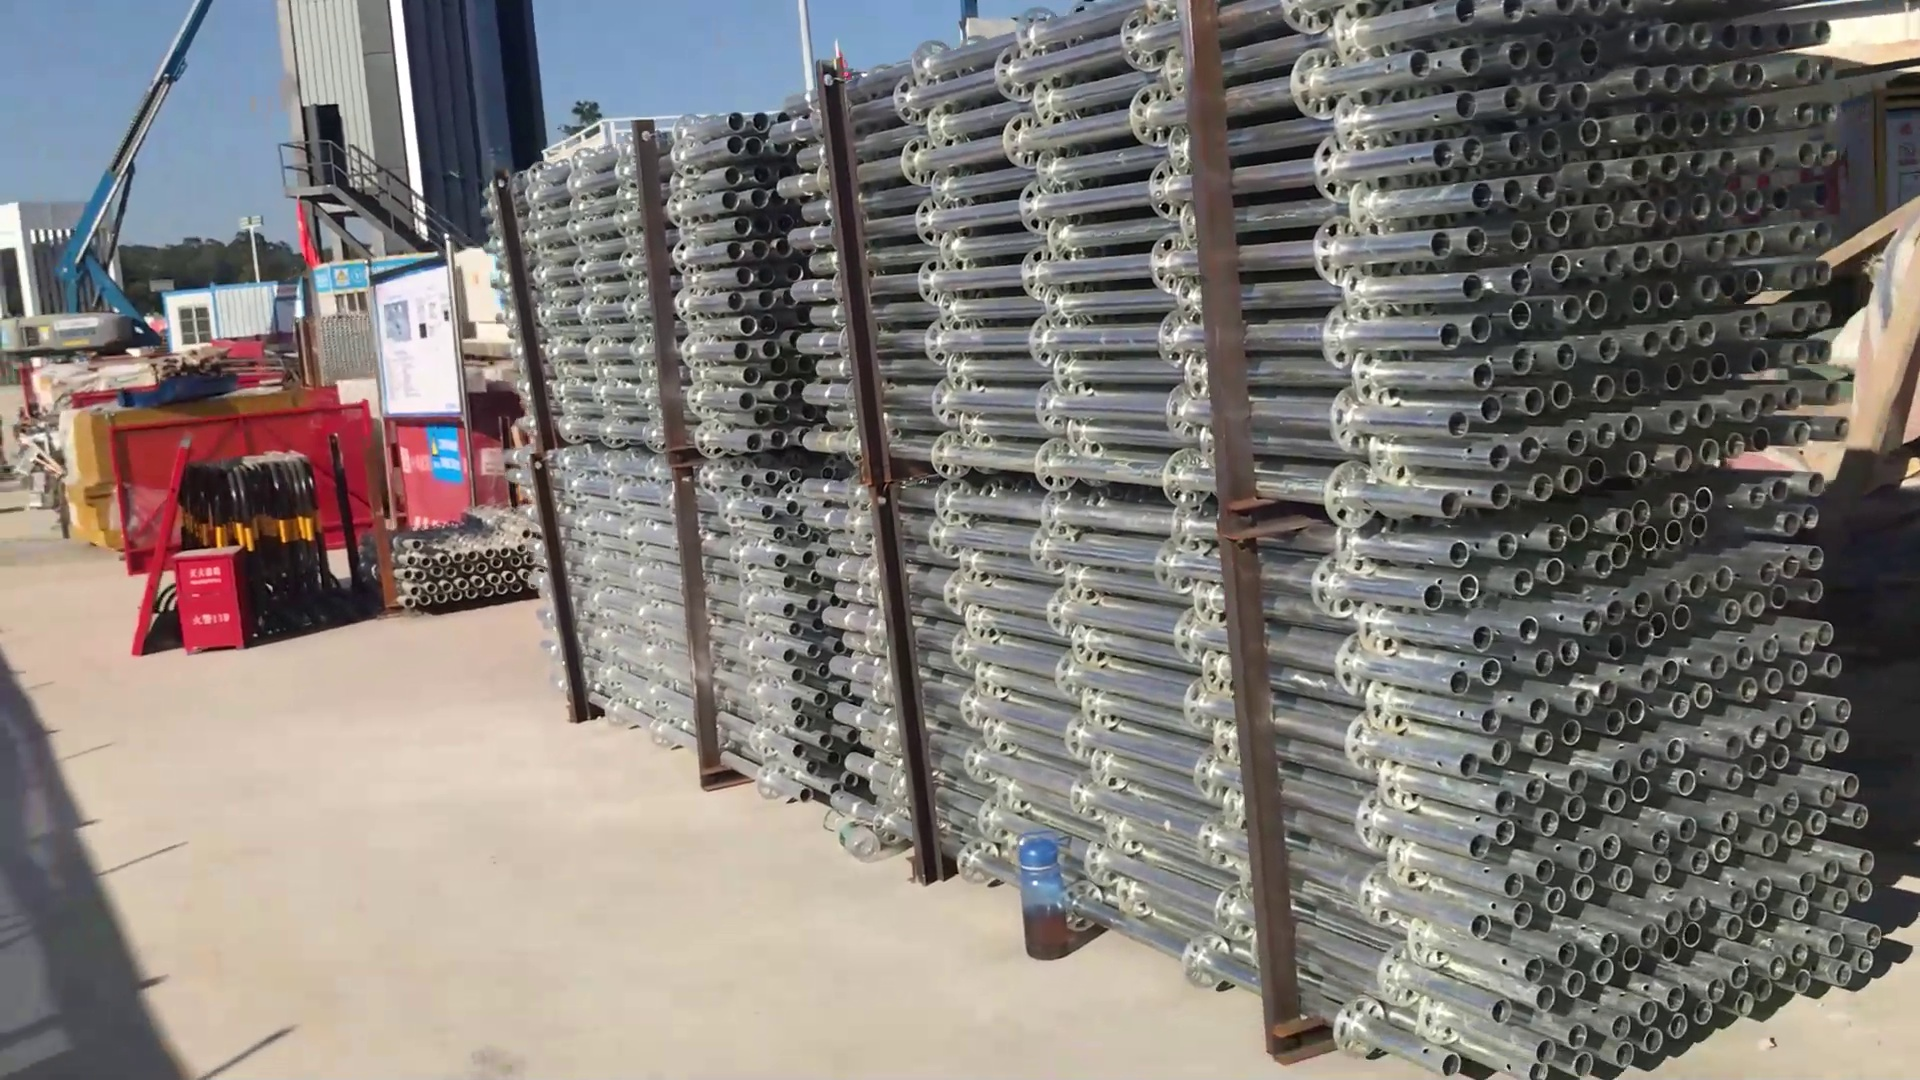fence: (109, 418, 394, 568), (173, 454, 328, 637), (393, 414, 485, 524)
scaffold: (828, 1, 1900, 1079), (500, 107, 808, 829), (375, 524, 551, 622)
slogan: (425, 431, 458, 488), (332, 266, 349, 287)
